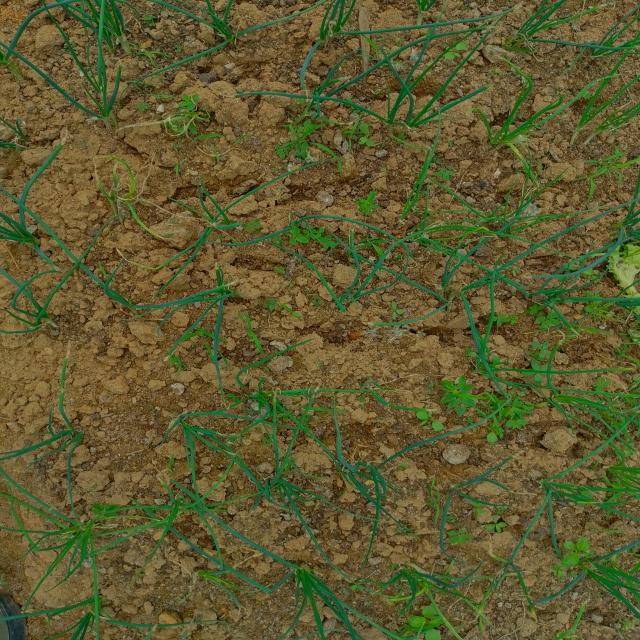Spring Onion: (58, 0, 165, 68), (270, 545, 353, 627), (487, 14, 556, 94), (559, 544, 640, 609), (21, 399, 93, 465), (366, 82, 429, 156), (31, 504, 122, 555), (284, 1, 376, 51), (365, 556, 446, 612), (56, 90, 138, 145), (461, 112, 545, 164), (455, 214, 539, 263), (75, 587, 152, 640), (526, 464, 594, 524), (86, 170, 159, 225), (160, 468, 216, 538), (279, 73, 335, 139), (2, 199, 60, 258), (194, 11, 266, 58), (327, 451, 388, 506), (192, 554, 257, 605), (539, 374, 603, 424), (563, 93, 617, 150), (163, 405, 233, 448), (186, 198, 246, 248), (438, 472, 490, 526), (465, 260, 529, 302), (183, 272, 247, 313), (10, 295, 67, 340), (242, 374, 296, 421), (479, 544, 534, 590), (587, 18, 627, 72), (255, 464, 302, 508), (599, 280, 640, 324)
